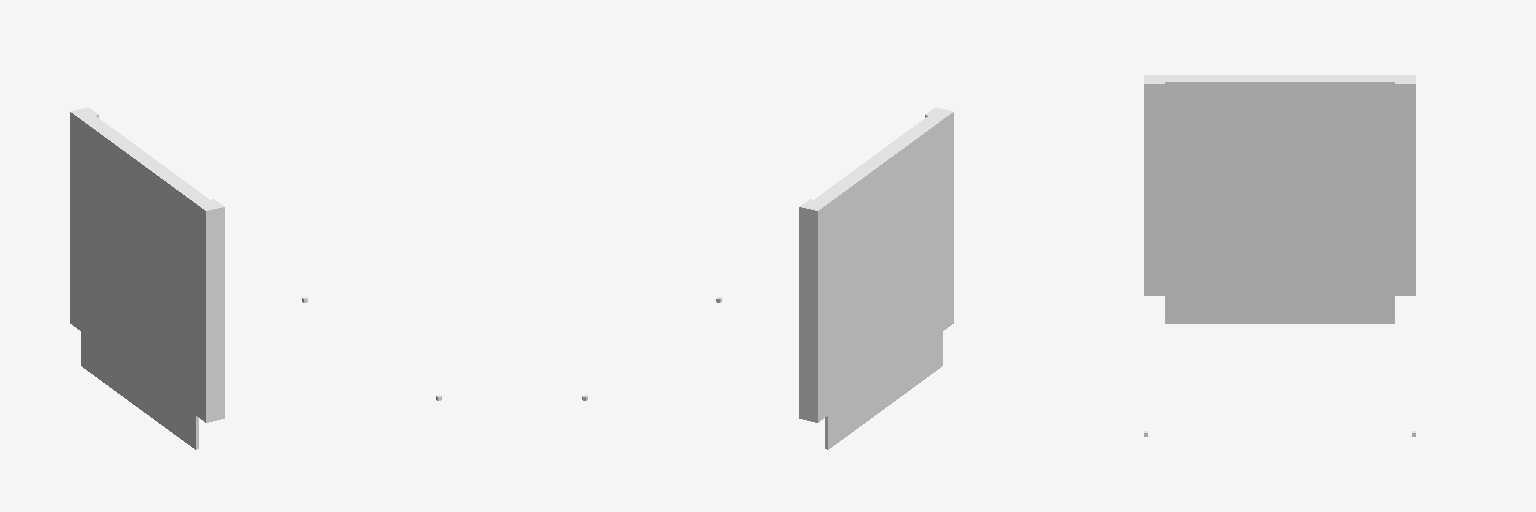
The model's file is Wall-0100.obj.
The picture shows the model from 3 angles: view 1: azimuth 30°, elevation 25°; view 2: azimuth 150°, elevation 25°; view 3: azimuth 270°, elevation 25°; orthographic projection.
Size of the model in its own units: 64 by 64 by 64.